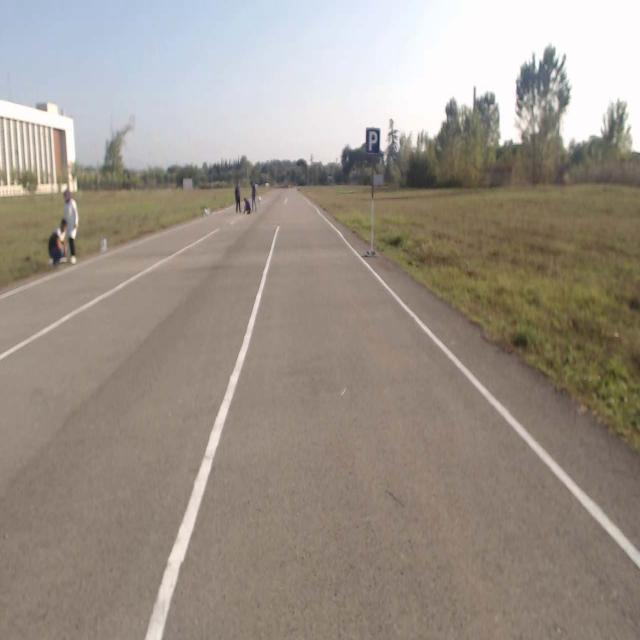park: (366, 128, 380, 156)
